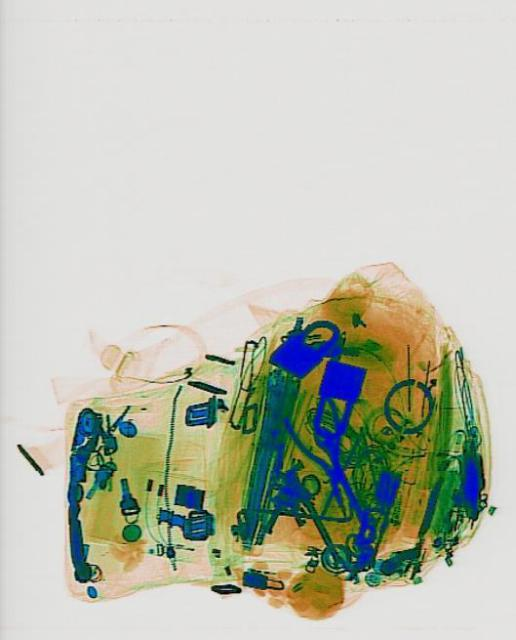Pliers: (280, 393, 369, 523)
